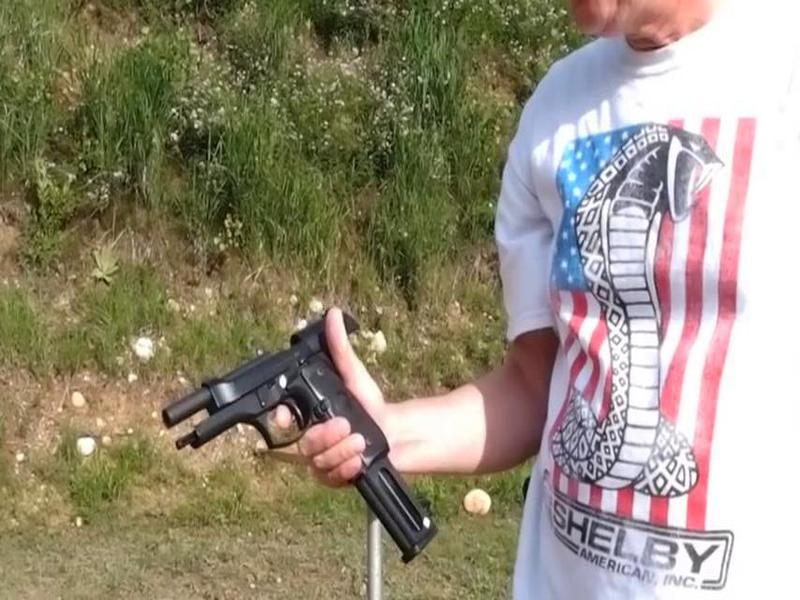Pistola: (173, 311, 435, 487)
